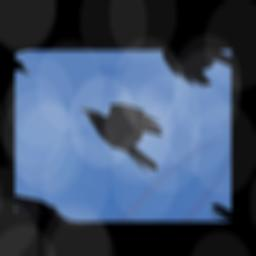Crow: (66, 84, 188, 178)
